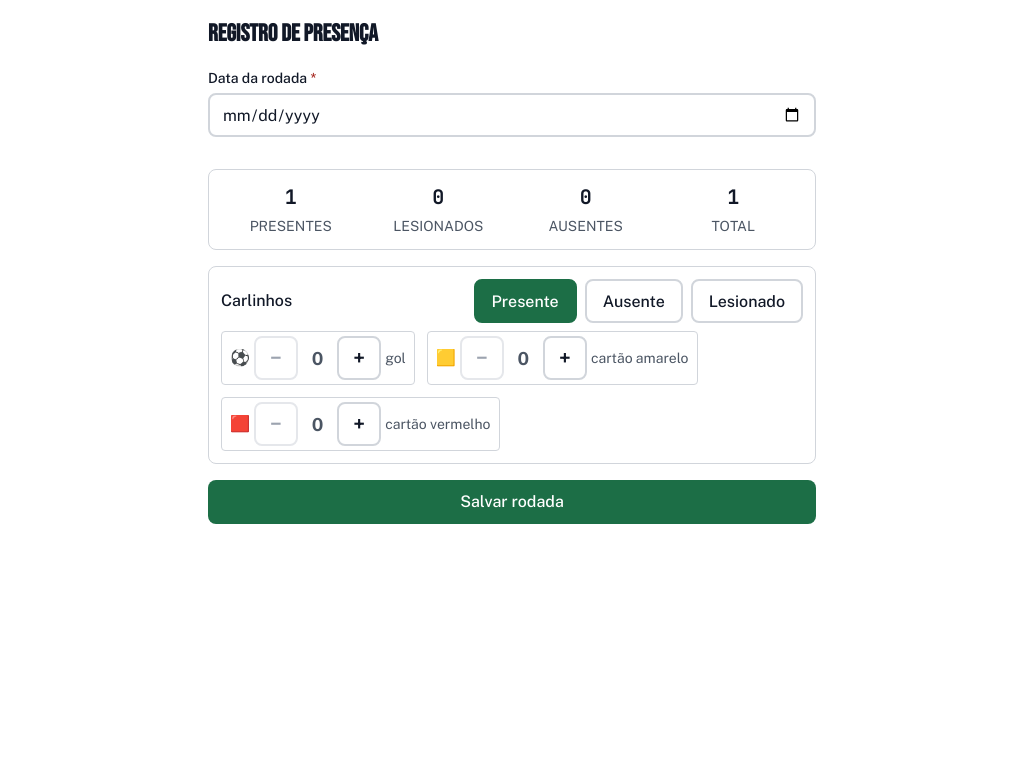
Test: LancamentoRodadaForm › cancelar o modal de confirmação fecha sem enviar nada
Expected: the heading "Registro de presença" is shown, 208,19 -> 378,48
Type "2026-09-05" into the date field labelled "Data da rodada *" at [512, 115], box 208,93 -> 816,137
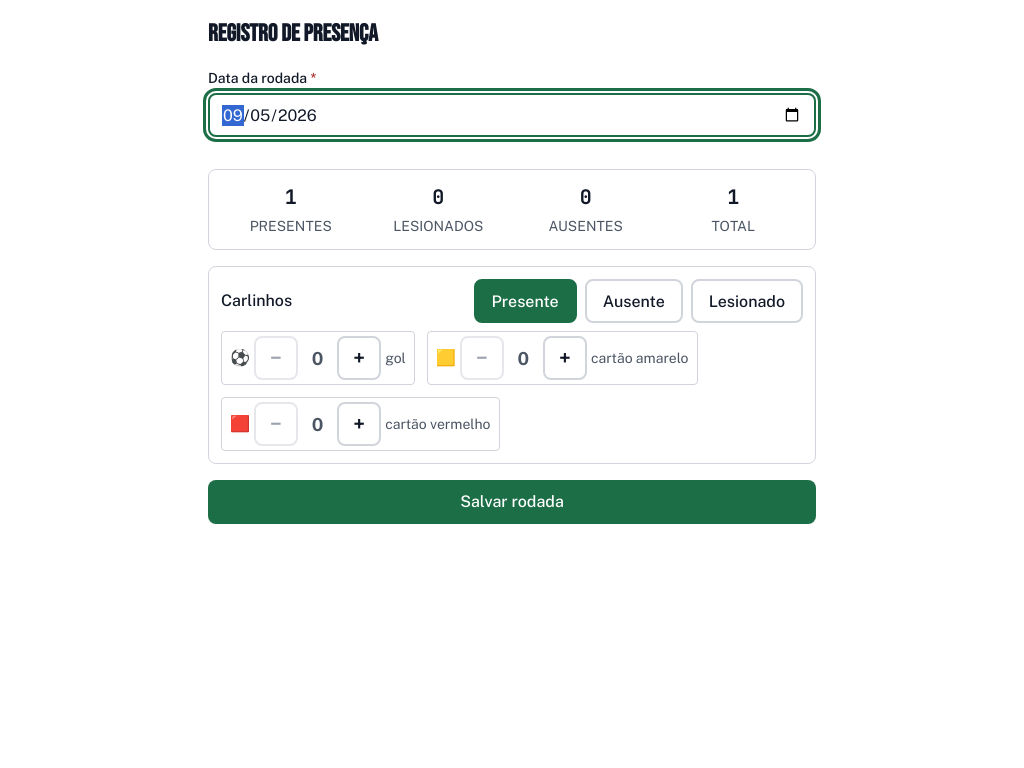
Click the button "Salvar rodada" at [512, 502], box 208,480 -> 816,524
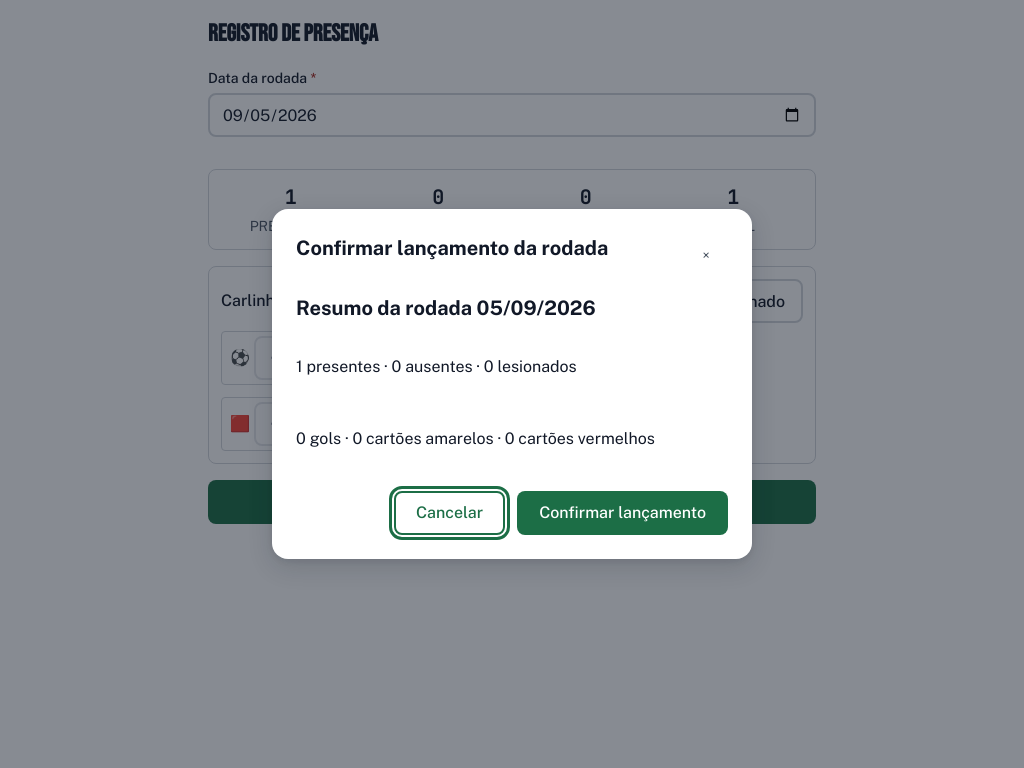
Click the button "Cancelar" at [450, 513], box 394,491 -> 505,535
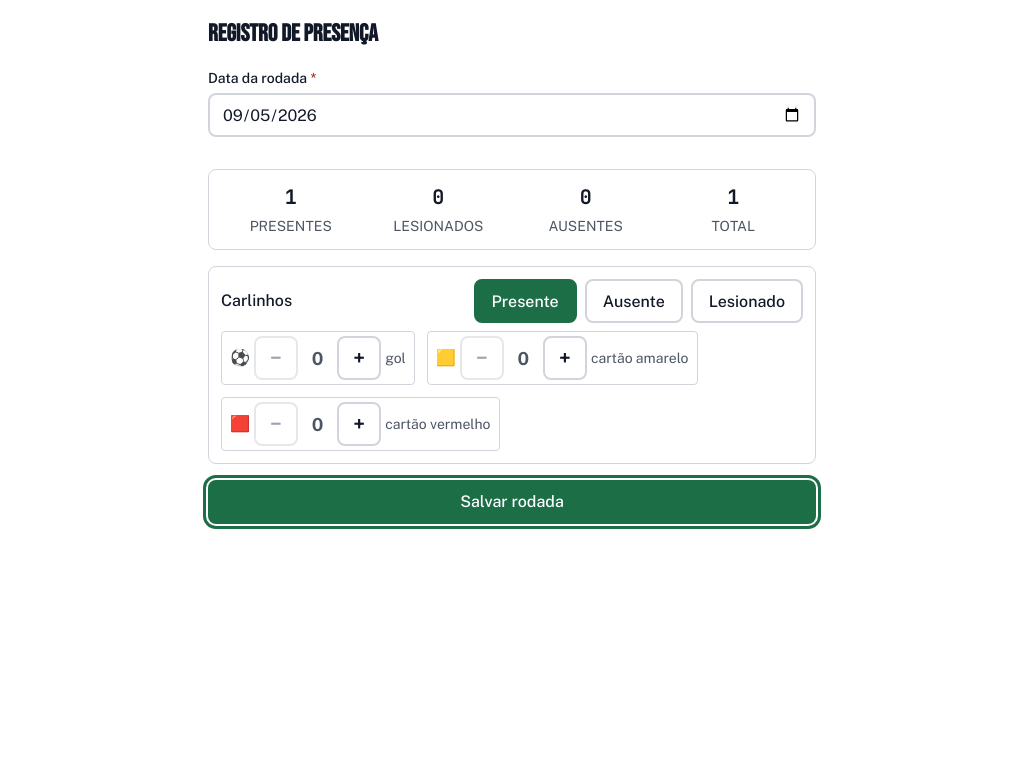
Result: the dialog is gone
